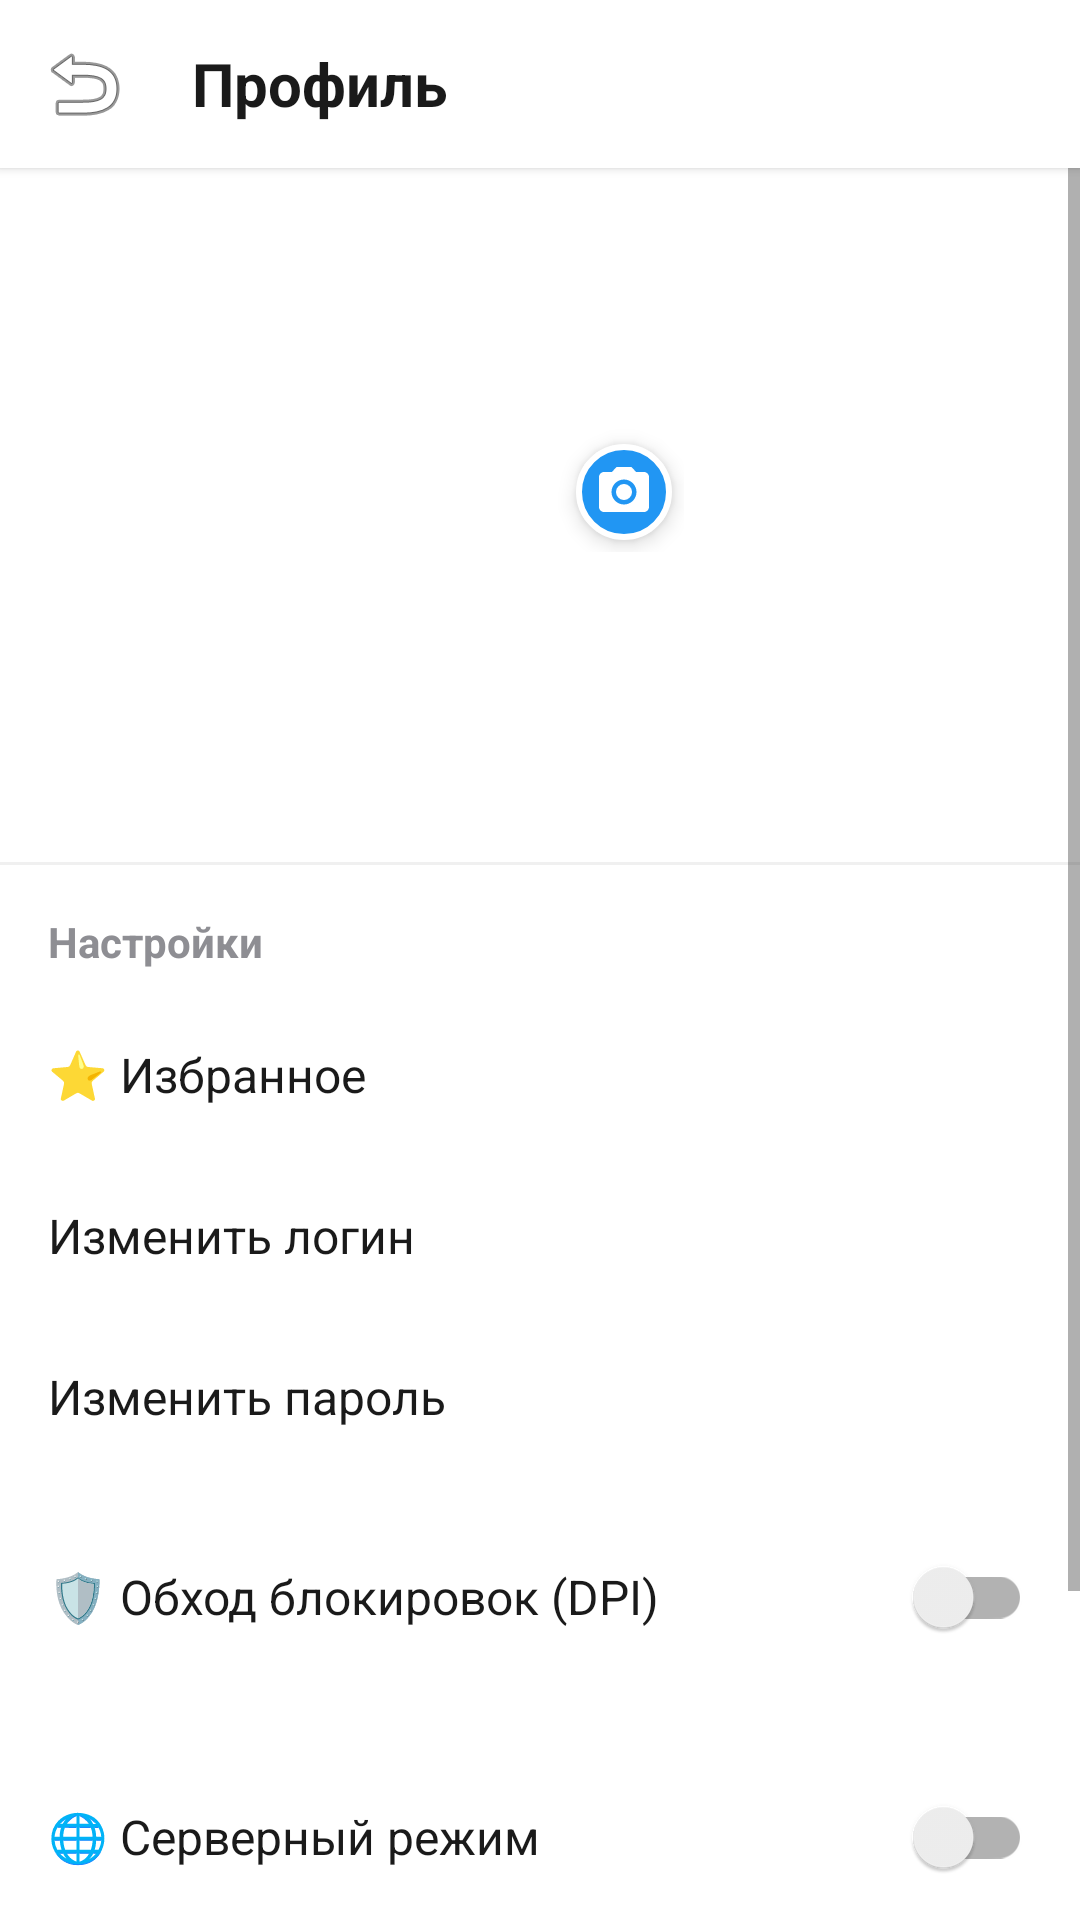

Named icons in this screenshot (1080px x 1920px) and their centers, (x,y):
Назад: (85,84)
